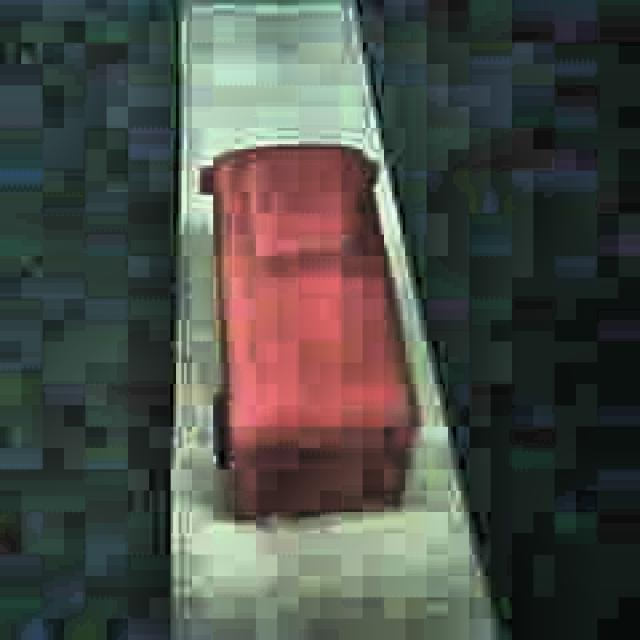bus: (200, 142, 420, 518)
